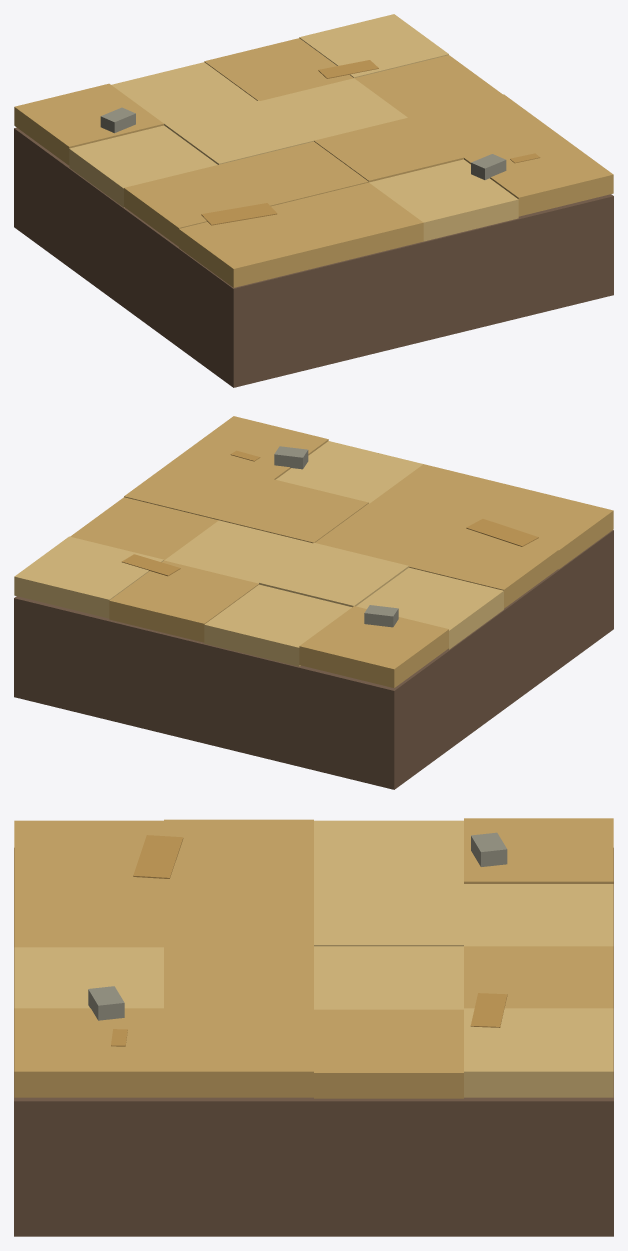
Rendered from sample_ground_1.glb.
3 views of the same model, one above another, from view 1: azimuth 30°, elevation 25°; view 2: azimuth 150°, elevation 25°; view 3: azimuth 270°, elevation 25° (orthographic). The views are drawn at different scales.
Visible parts, largest first — view 1: earth_bank.001, packed_earth.028, packed_earth.029, packed_earth.030, packed_earth.031, packed_earth.020, packed_earth.024, packed_earth.016, packed_earth.026, packed_earth.021, packed_earth.025, packed_earth.027 (+9 smaller); view 2: earth_bank.001, packed_earth.016, packed_earth.017, packed_earth.018, packed_earth.019, packed_earth.024, packed_earth.020, packed_earth.028, packed_earth.021, packed_earth.026, packed_earth.027, packed_earth.022 (+9 smaller); view 3: earth_bank.001, packed_earth.023, packed_earth.027, packed_earth.019, packed_earth.031, packed_earth.021, packed_earth.022, packed_earth.026, packed_earth.029, packed_earth.017, packed_earth.020, packed_earth.025 (+9 smaller).
Part boxes in pixels (bbox=[...]): earth_bank.001: bbox=[14, 127, 613, 387]; packed_earth.028: bbox=[179, 205, 328, 287]; packed_earth.029: bbox=[274, 182, 423, 264]; packed_earth.030: bbox=[369, 159, 518, 241]; packed_earth.031: bbox=[464, 134, 613, 216]; packed_earth.020: bbox=[69, 125, 217, 207]; packed_earth.024: bbox=[124, 165, 273, 246]; packed_earth.016: bbox=[14, 83, 163, 165]; packed_earth.026: bbox=[314, 117, 463, 182]; packed_earth.021: bbox=[164, 100, 313, 164]; packed_earth.025: bbox=[219, 141, 368, 205]; packed_earth.027: bbox=[409, 94, 558, 157]; earth_bank.001: bbox=[14, 530, 613, 789]; packed_earth.016: bbox=[299, 606, 448, 687]; packed_earth.017: bbox=[204, 584, 351, 666]; packed_earth.018: bbox=[109, 560, 258, 642]; packed_earth.019: bbox=[14, 536, 163, 618]; packed_earth.024: bbox=[409, 526, 558, 608]; packed_earth.020: bbox=[356, 567, 503, 649]; packed_earth.028: bbox=[465, 487, 613, 569]; packed_earth.021: bbox=[259, 542, 408, 607]; packed_earth.026: bbox=[219, 479, 368, 543]; packed_earth.027: bbox=[124, 456, 273, 520]; packed_earth.022: bbox=[164, 520, 312, 583]; earth_bank.001: bbox=[14, 848, 613, 1236]; packed_earth.023: bbox=[314, 1009, 463, 1098]; packed_earth.027: bbox=[164, 1008, 313, 1097]; packed_earth.019: bbox=[464, 1008, 613, 1097]; packed_earth.031: bbox=[14, 1008, 163, 1097]; packed_earth.021: bbox=[314, 881, 463, 946]; packed_earth.022: bbox=[314, 946, 463, 1009]; packed_earth.026: bbox=[164, 945, 313, 1008]; packed_earth.029: bbox=[14, 884, 163, 947]; packed_earth.017: bbox=[464, 884, 613, 946]; packed_earth.020: bbox=[314, 820, 463, 881]; packed_earth.025: bbox=[164, 883, 313, 944].
Bounding box in the file's own units: 0.925 × 0.3055 × 0.925.
